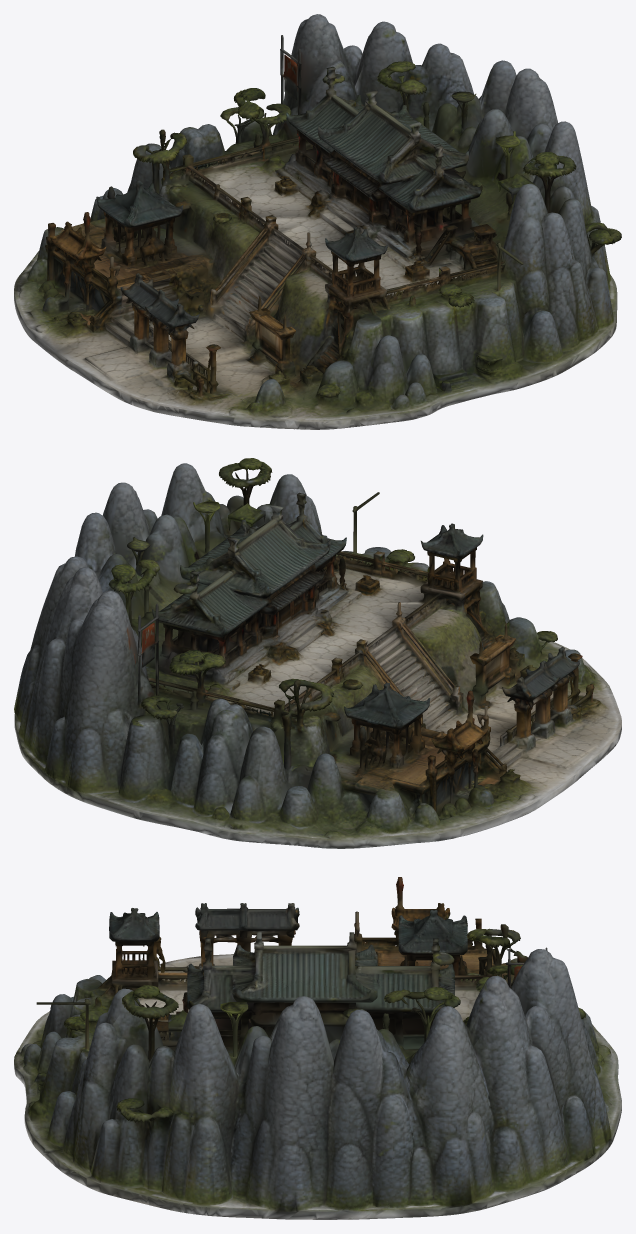
Rendered from WulingMountainRoad.glb.
The picture shows the model from 3 angles, top to bottom: view 1: azimuth 30°, elevation 25°; view 2: azimuth 150°, elevation 25°; view 3: azimuth 270°, elevation 25°; orthographic projection. The views are drawn at different scales.
Parts seen in each view (by area): view 1: node_0; view 2: node_0; view 3: node_0.
Part boxes in pixels (x1,y1,x2,y2): node_0: (14, 14, 621, 429); node_0: (14, 458, 621, 848); node_0: (14, 877, 621, 1219).
Bounding box in the file's own units: 1.07 × 0.382 × 1.05.
Materials: 1 (1 with a texture image).
